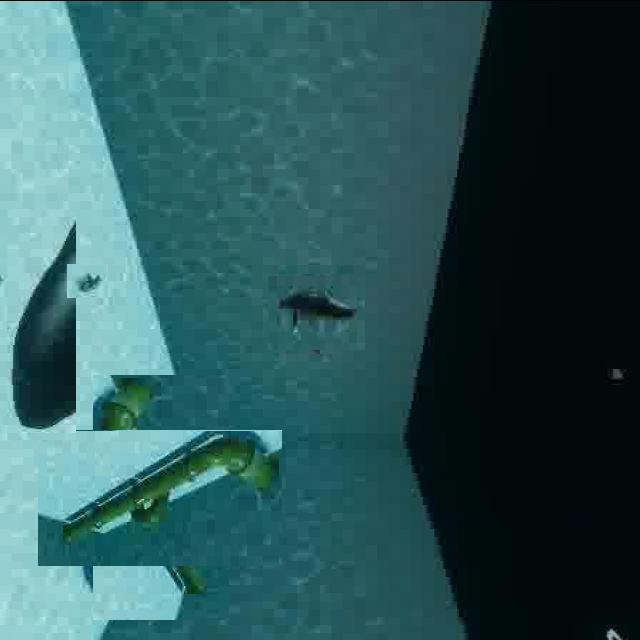Pipe: (66, 402, 256, 592)
Shell: (67, 263, 108, 297)
Whale: (0, 209, 76, 439), (274, 270, 359, 356)
